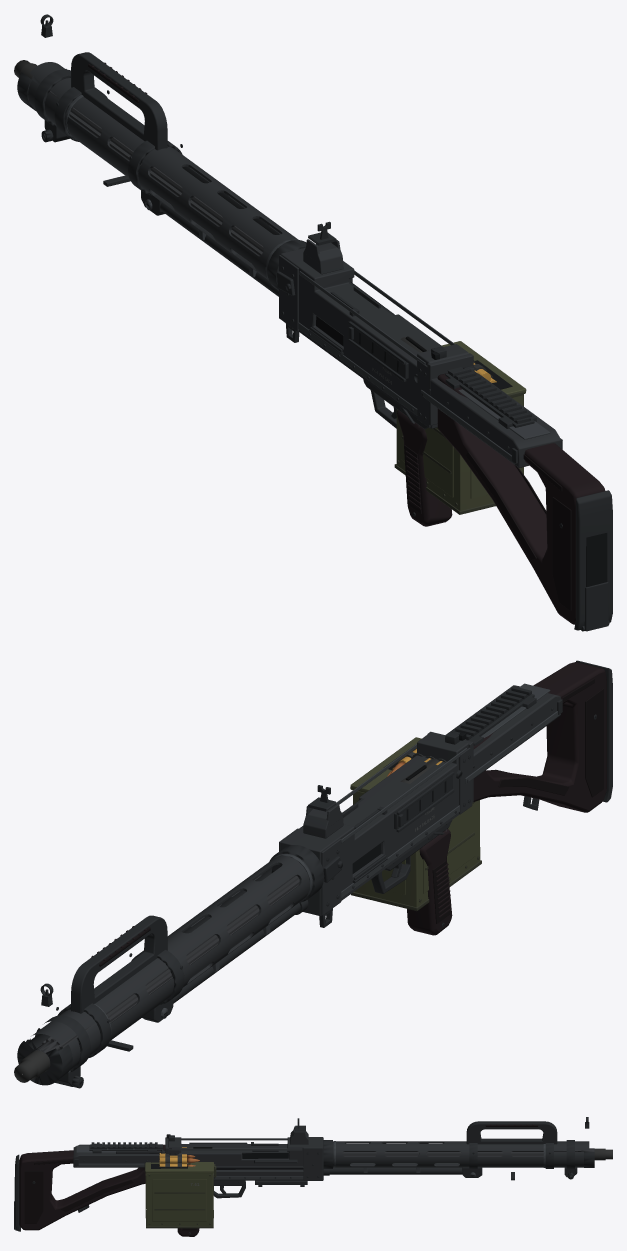
File: weapon-48-CNV4Hx-K.glb
3 renders of one model, top to bottom at view 1: azimuth 30°, elevation 25°; view 2: azimuth 150°, elevation 25°; view 3: azimuth 270°, elevation 25°, orthographic. The views are drawn at different scales.
Parts seen in each view (by area): view 1: salient_weapon_body, salient_weapon_cover, salient_weapon_magazine; view 2: salient_weapon_body, salient_weapon_cover, salient_weapon_magazine, salient_weapon_iron; view 3: salient_weapon_body, salient_weapon_magazine, salient_weapon_cover, salient_weapon_belt.
Boxes of the visible parts, x1,y1,x2,y2 form: salient_weapon_body: (14, 52, 612, 631); salient_weapon_cover: (414, 366, 562, 467); salient_weapon_magazine: (394, 341, 526, 514); salient_weapon_body: (14, 660, 612, 1088); salient_weapon_cover: (445, 683, 562, 783); salient_weapon_magazine: (350, 737, 481, 910); salient_weapon_iron: (40, 785, 336, 1006); salient_weapon_body: (14, 1121, 612, 1236); salient_weapon_magazine: (144, 1162, 216, 1228); salient_weapon_cover: (73, 1142, 165, 1167); salient_weapon_belt: (159, 1146, 199, 1167).
Size of the model in its own units: 0.0949 by 0.2458 by 1.14.
